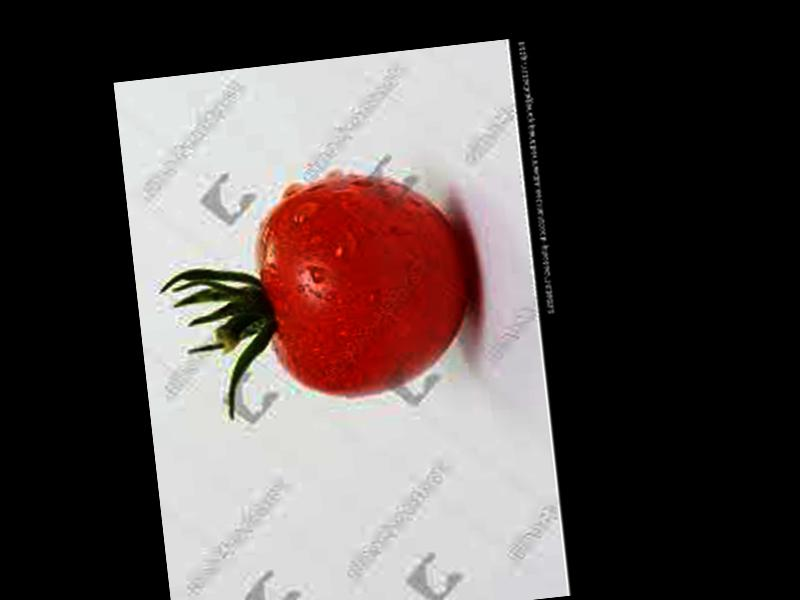Tomato: (251, 169, 481, 405)
